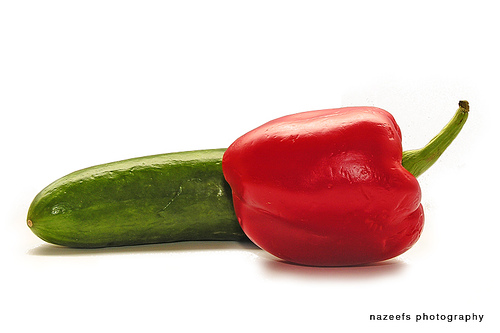cucumber: (26, 149, 257, 250)
